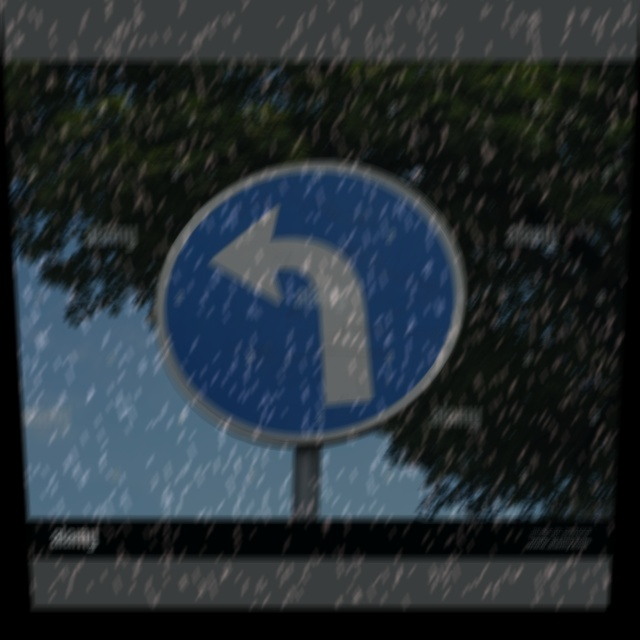Compulsory_Turn_Left_Ahead: (151, 161, 464, 449)
